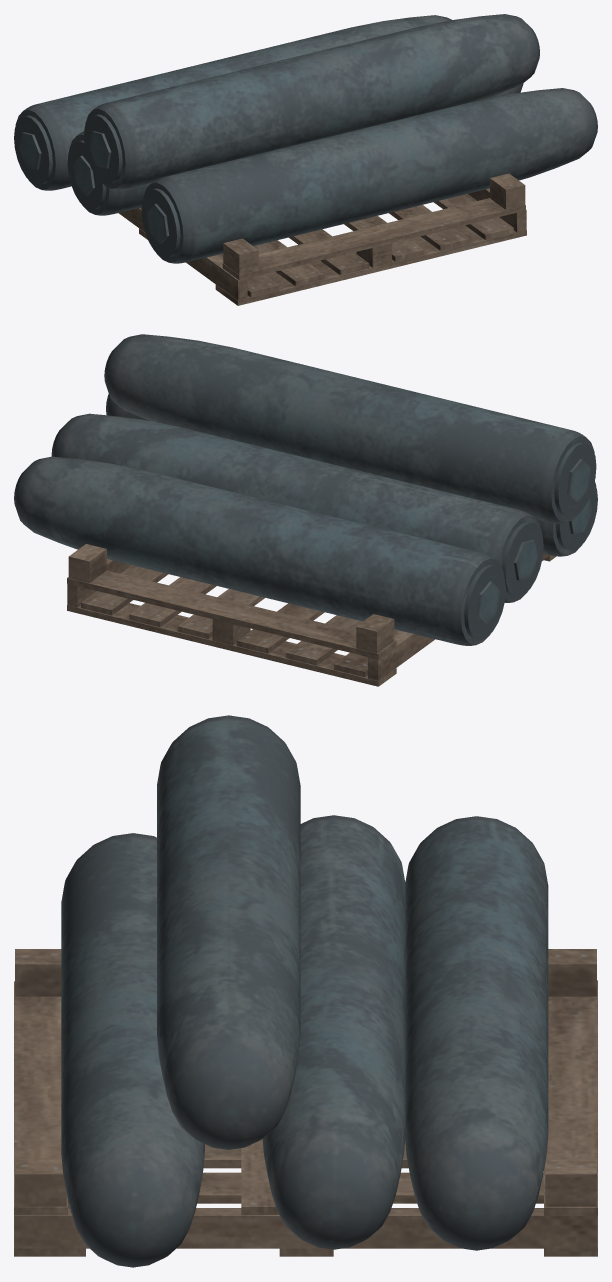
Rendered from SM_Missile_Pallet_2.fbx.
3 views of the same model, one above another, from view 1: azimuth 30°, elevation 25°; view 2: azimuth 150°, elevation 25°; view 3: azimuth 270°, elevation 25° (orthographic). The views are drawn at different scales.
Visible parts, largest first — view 1: SM_Missile_Pallet_2_LOD0; view 2: SM_Missile_Pallet_2_LOD0; view 3: SM_Missile_Pallet_2_LOD0.
Part boxes in pixels (bbox=[...]): SM_Missile_Pallet_2_LOD0: bbox=[14, 14, 597, 305]; SM_Missile_Pallet_2_LOD0: bbox=[14, 334, 597, 686]; SM_Missile_Pallet_2_LOD0: bbox=[14, 715, 597, 1267].
Bounding box in the file's own units: 192 × 130 × 65.46.
Materials: 2 (2 with a texture image).
